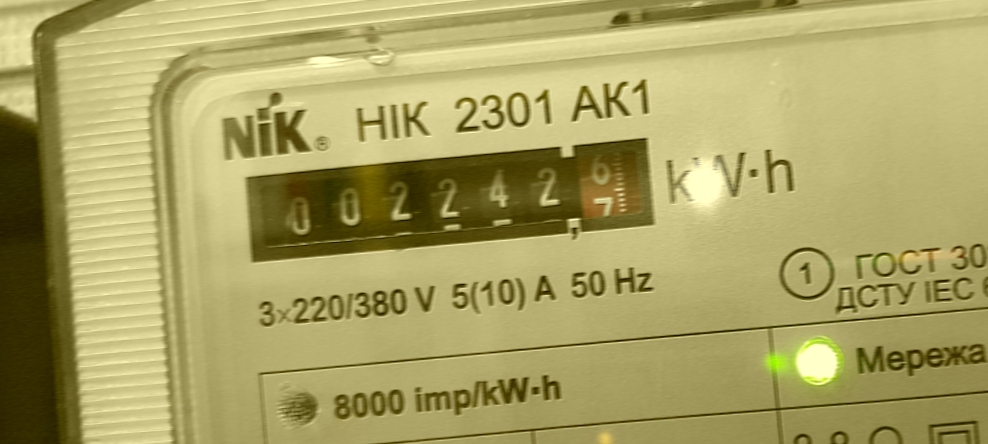0: (336, 183, 364, 228), (387, 178, 414, 222), (288, 192, 313, 238)
2: (534, 164, 562, 209), (436, 175, 462, 220)
4: (485, 166, 511, 211)
6: (588, 152, 614, 186)
7: (591, 194, 616, 218)
screen: (234, 125, 673, 278)
